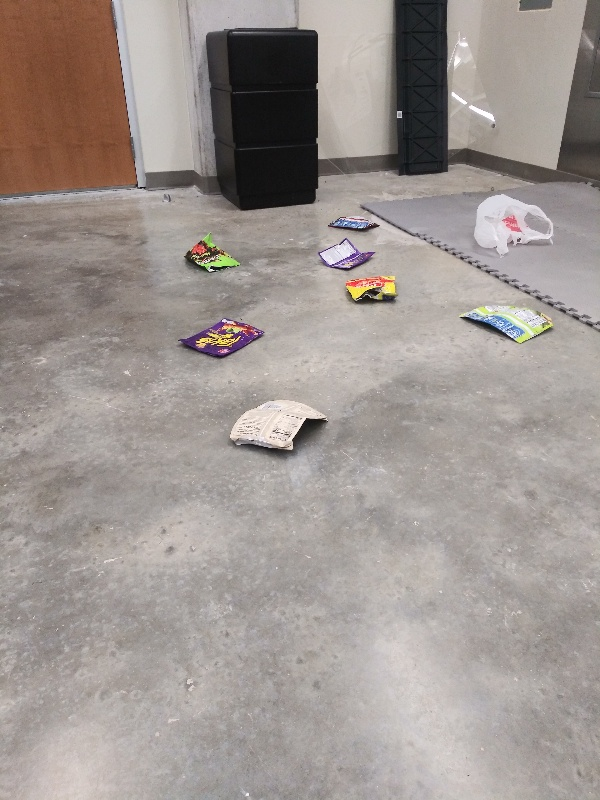bag: (226, 396, 333, 457), (453, 300, 558, 346), (176, 315, 271, 363), (181, 230, 246, 275), (312, 235, 378, 271), (342, 270, 400, 306), (322, 213, 383, 236)
